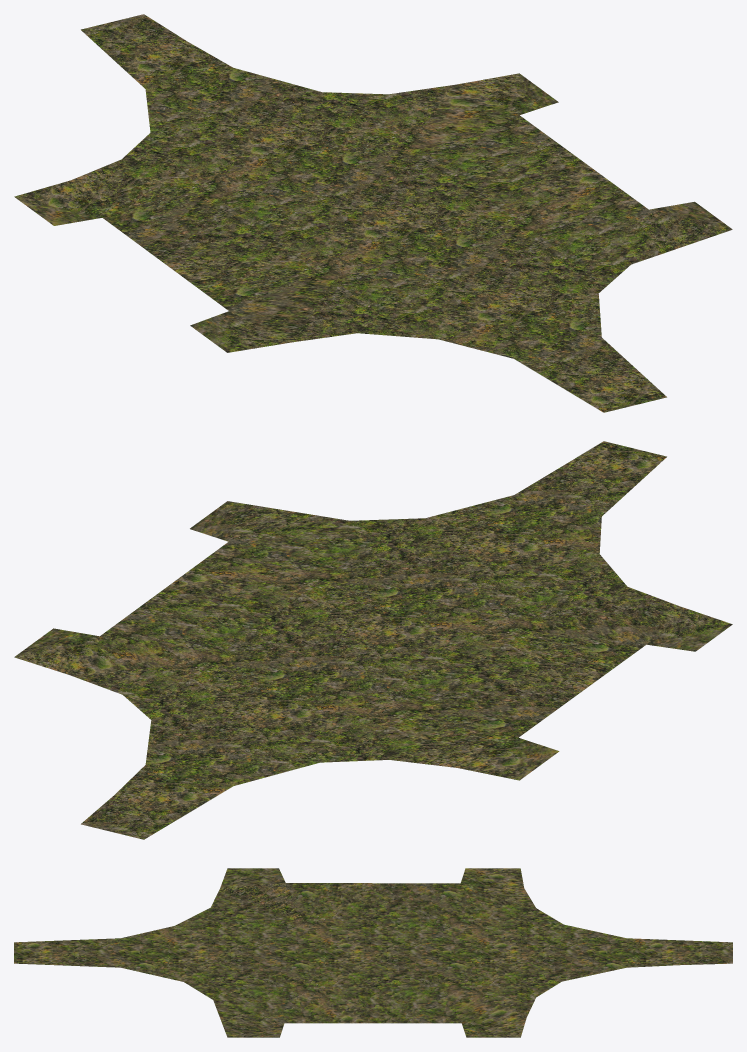
Rendered from Planter_DirtPlane_Unique02.FBX.
3 views of the same model, one above another, from view 1: azimuth 30°, elevation 25°; view 2: azimuth 150°, elevation 25°; view 3: azimuth 270°, elevation 25° (orthographic). The views are drawn at different scales.
Visible parts, largest first — view 1: Planter_DirtPlane_Unique02; view 2: Planter_DirtPlane_Unique02; view 3: Planter_DirtPlane_Unique02.
Part boxes in pixels (left/top/right/bottom): Planter_DirtPlane_Unique02: left=14, top=14, right=732, bottom=412; Planter_DirtPlane_Unique02: left=14, top=441, right=732, bottom=839; Planter_DirtPlane_Unique02: left=14, top=868, right=732, bottom=1037.
Size of the model in its own units: 10.29 by 5.23e-15 by 18.46.
